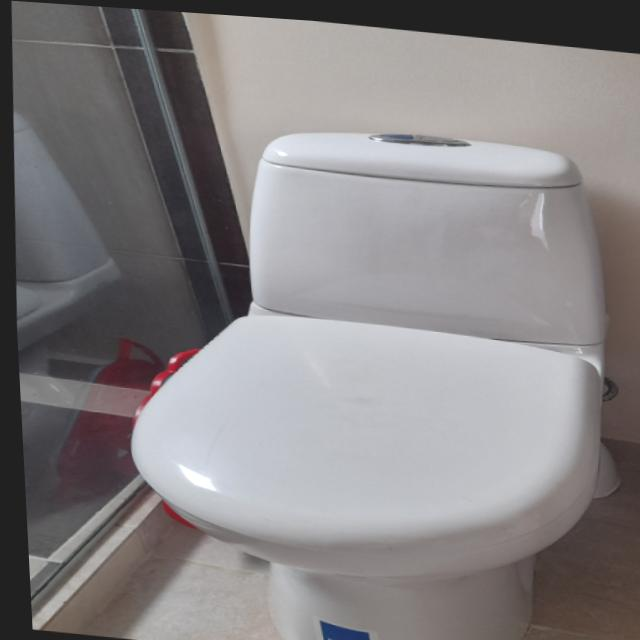toilet: (104, 100, 628, 640)
